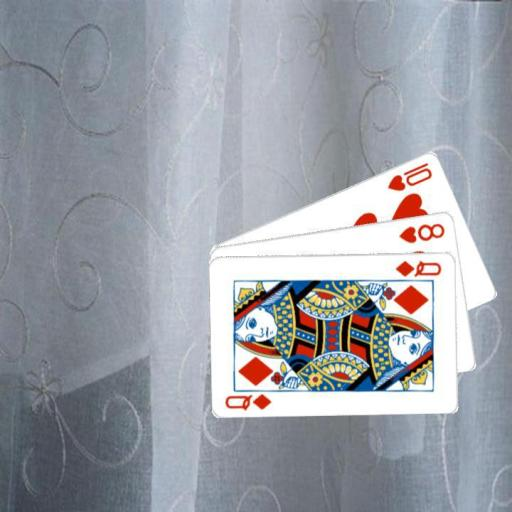10H: (385, 159, 434, 193)
8H: (396, 219, 447, 245)
QD: (222, 390, 274, 411), (393, 257, 443, 278)
